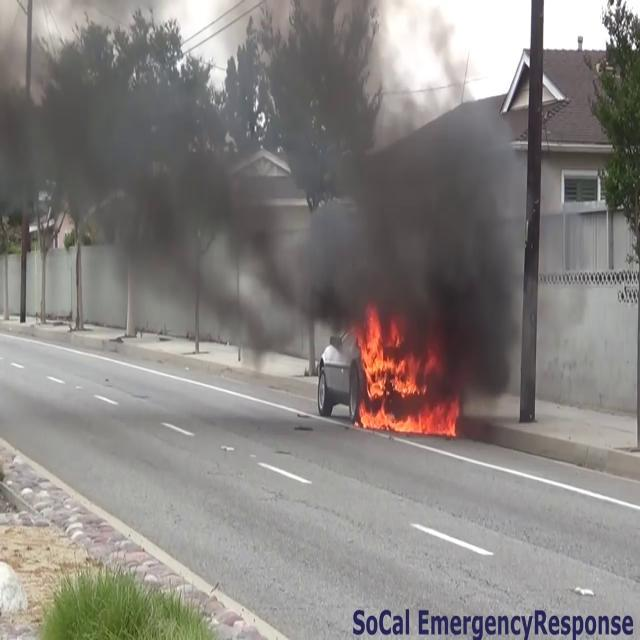Fire: (353, 310, 459, 440)
Smoke: (2, 0, 532, 332)
